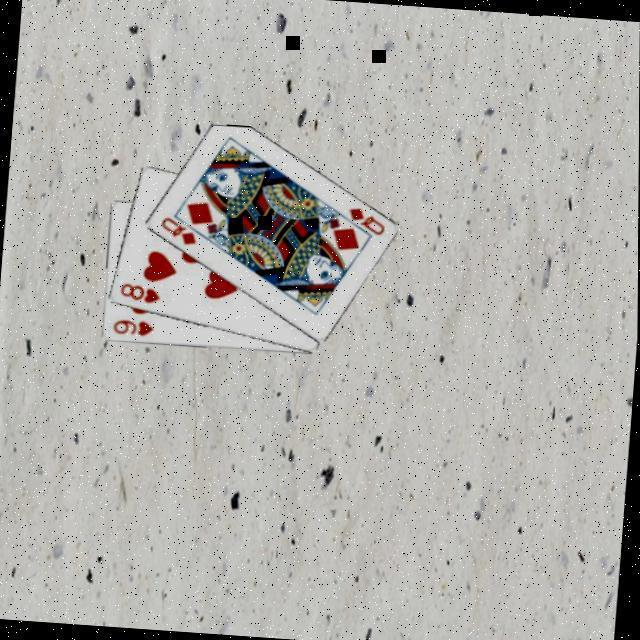8H: (117, 281, 165, 308)
9H: (111, 318, 158, 341)
QD: (158, 215, 202, 250), (346, 205, 390, 240)
